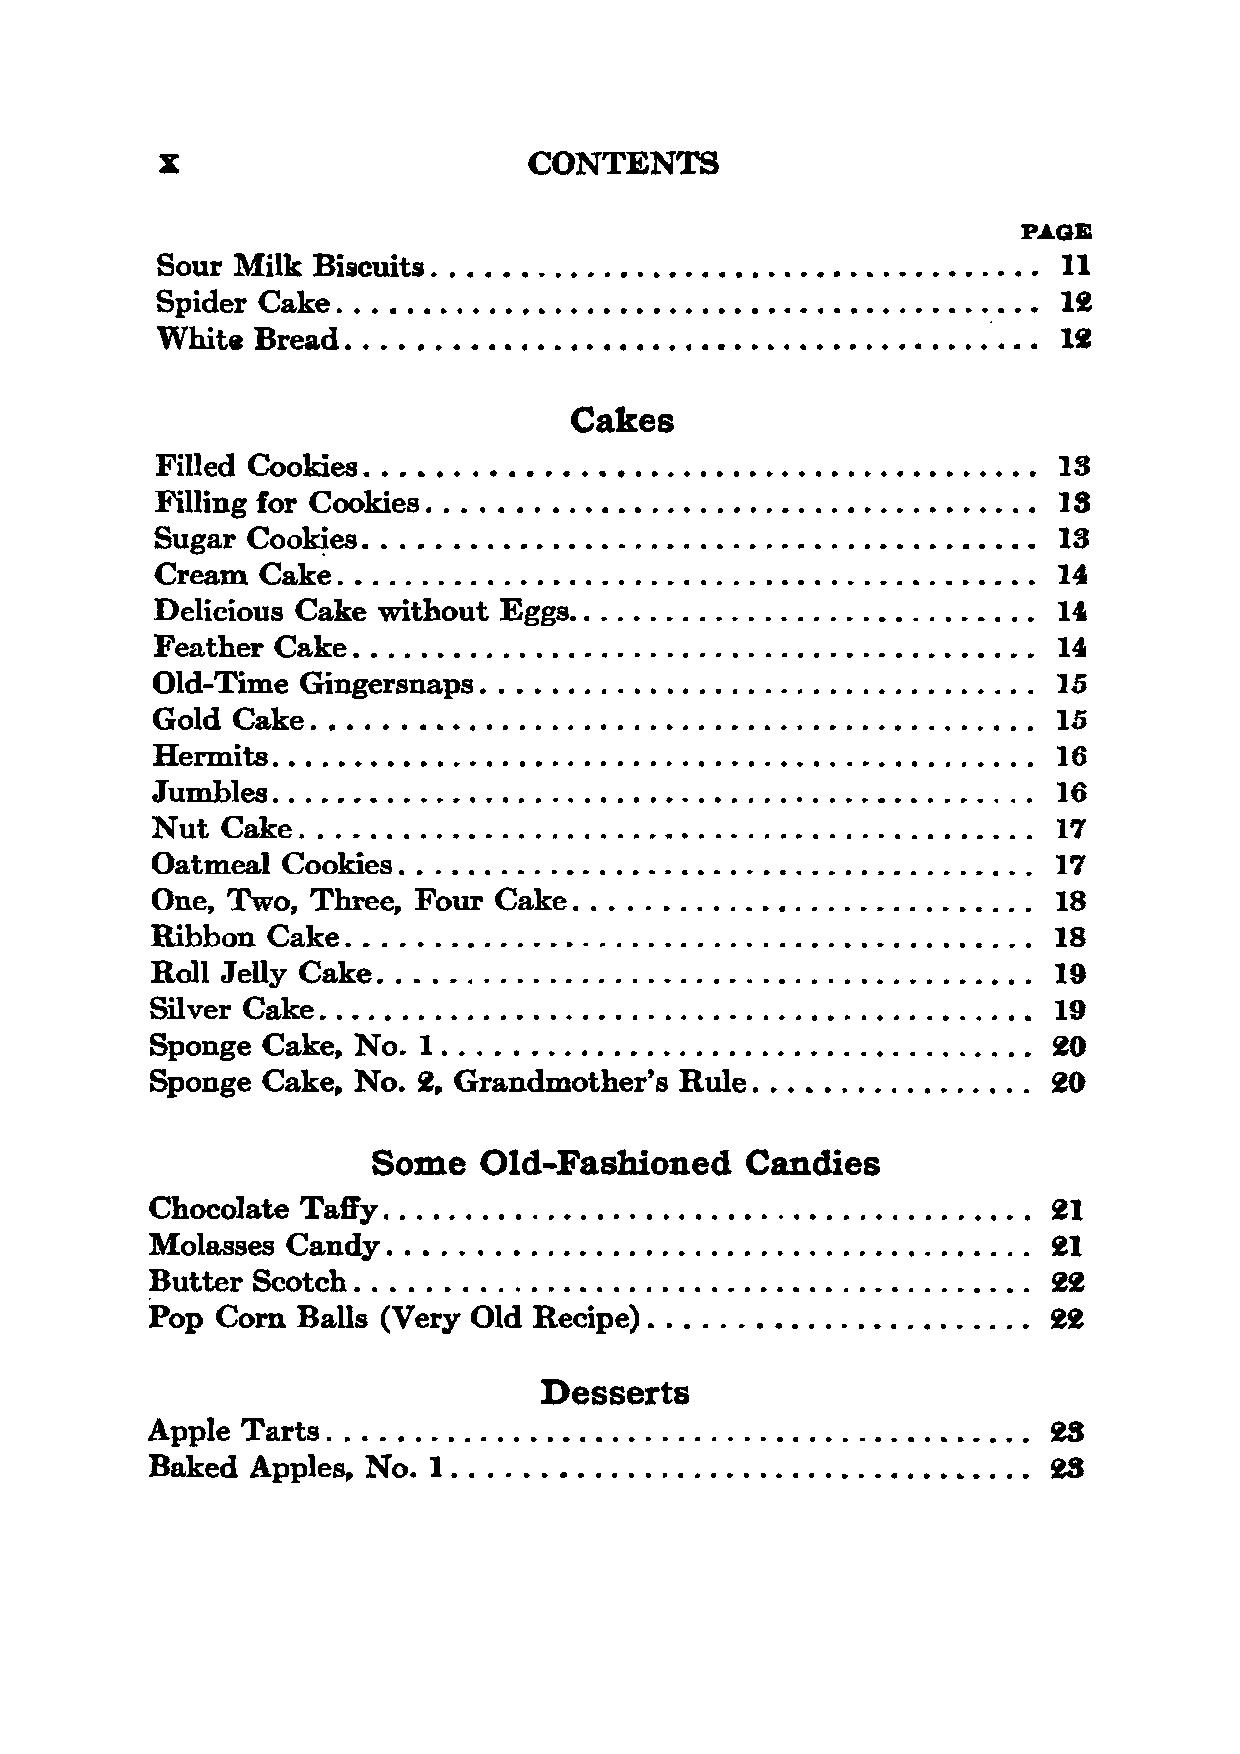TOC_chapter: (368, 1135, 888, 1181), (140, 1064, 753, 1102), (144, 1300, 641, 1338), (153, 592, 574, 629), (145, 884, 570, 917), (149, 1451, 452, 1488), (152, 246, 428, 285), (148, 668, 480, 701), (148, 1182, 378, 1225), (148, 1025, 437, 1057), (144, 1227, 382, 1263), (152, 845, 400, 879), (148, 951, 382, 985), (148, 487, 423, 515), (148, 519, 358, 553), (144, 447, 358, 479), (152, 321, 340, 354), (145, 631, 346, 662), (144, 921, 350, 950), (144, 1267, 348, 1296), (152, 556, 330, 589), (148, 1409, 325, 1443), (153, 286, 326, 318), (538, 1374, 691, 1410), (144, 990, 313, 1023), (148, 705, 305, 735), (148, 811, 298, 843), (566, 397, 675, 435), (142, 774, 268, 805), (148, 739, 275, 769)
TOC_pagenumber: (1049, 633, 1094, 666), (1048, 1451, 1090, 1484), (1056, 285, 1096, 318), (1045, 1229, 1091, 1257), (1055, 246, 1092, 278), (1047, 1064, 1084, 1096), (1048, 1418, 1088, 1448), (1047, 1304, 1088, 1333), (1057, 590, 1090, 625), (1049, 1266, 1084, 1298), (1055, 451, 1092, 480), (1049, 1028, 1087, 1057), (1057, 558, 1094, 588), (1055, 668, 1092, 697), (1053, 777, 1088, 807), (1049, 1196, 1084, 1225), (1060, 323, 1096, 352), (1056, 486, 1092, 514), (1052, 705, 1088, 733), (1051, 849, 1087, 878), (1057, 521, 1091, 550), (1055, 957, 1088, 986), (1056, 815, 1088, 844), (1053, 743, 1086, 772), (1052, 922, 1086, 947), (1056, 884, 1086, 913), (1055, 997, 1088, 1020)
chapter: (517, 136, 727, 178)
